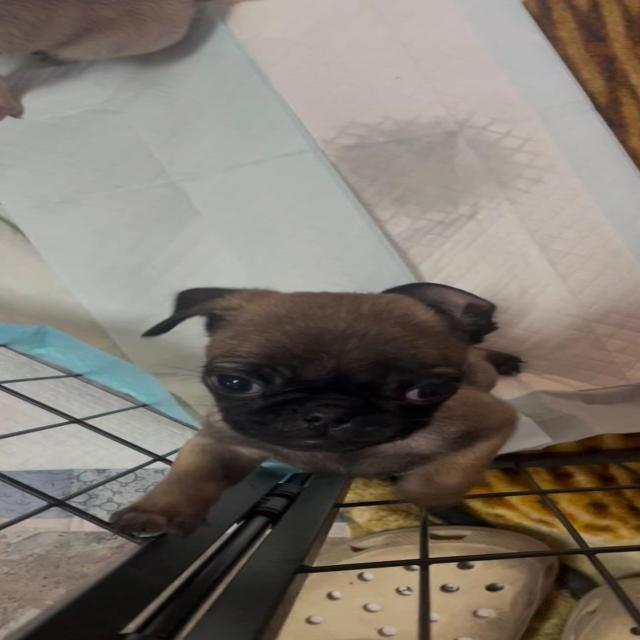pug_dog: (135, 272, 518, 469)
